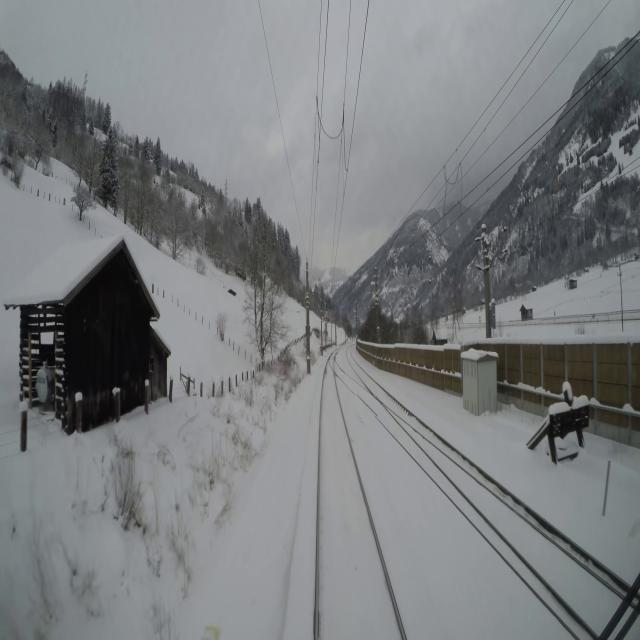rail-track: (336, 366, 594, 639), (348, 350, 629, 593), (409, 430, 622, 633), (320, 365, 401, 639)
